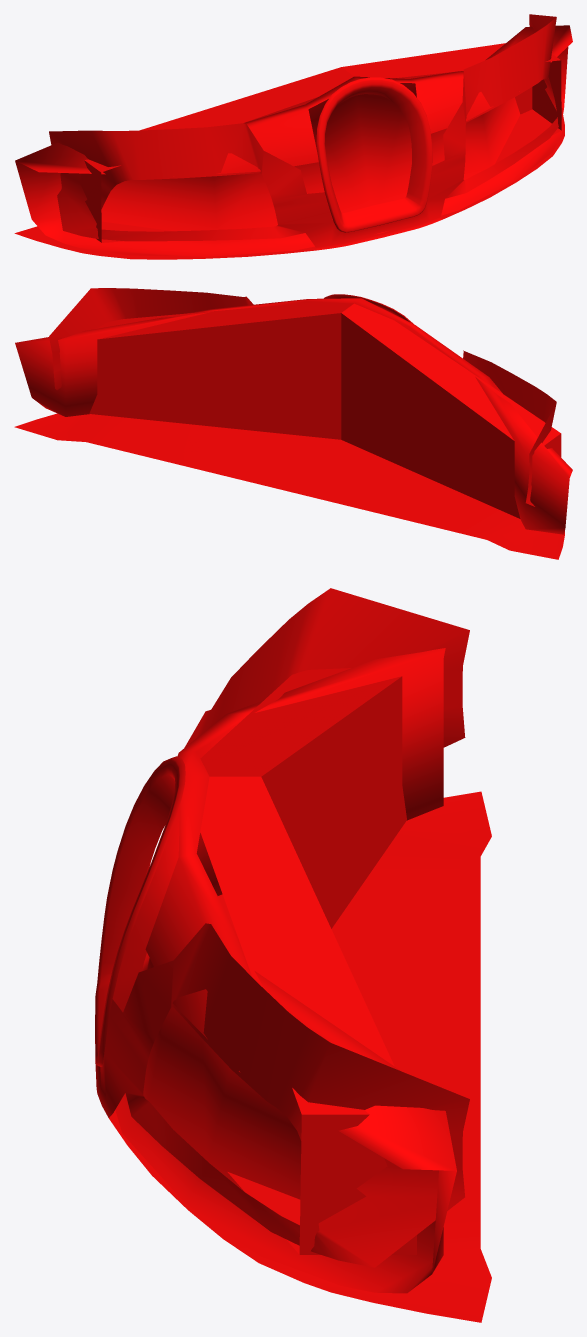
The model's file is Veyron_FB02_Trim.fbx.
The picture shows the model from 3 angles, top to bottom: view 1: azimuth 30°, elevation 25°; view 2: azimuth 150°, elevation 25°; view 3: azimuth 270°, elevation 25°; orthographic projection. The views are drawn at different scales.
Visible parts, largest first — view 1: Veyron_FB02_Trim; view 2: Veyron_FB02_Trim; view 3: Veyron_FB02_Trim.
Part boxes in pixels (left/top/right/bottom): Veyron_FB02_Trim: left=14, top=14, right=572, bottom=259; Veyron_FB02_Trim: left=14, top=288, right=572, bottom=559; Veyron_FB02_Trim: left=95, top=588, right=491, bottom=1322.
Bounding box in the file's own units: 191 × 47.03 × 59.32.
